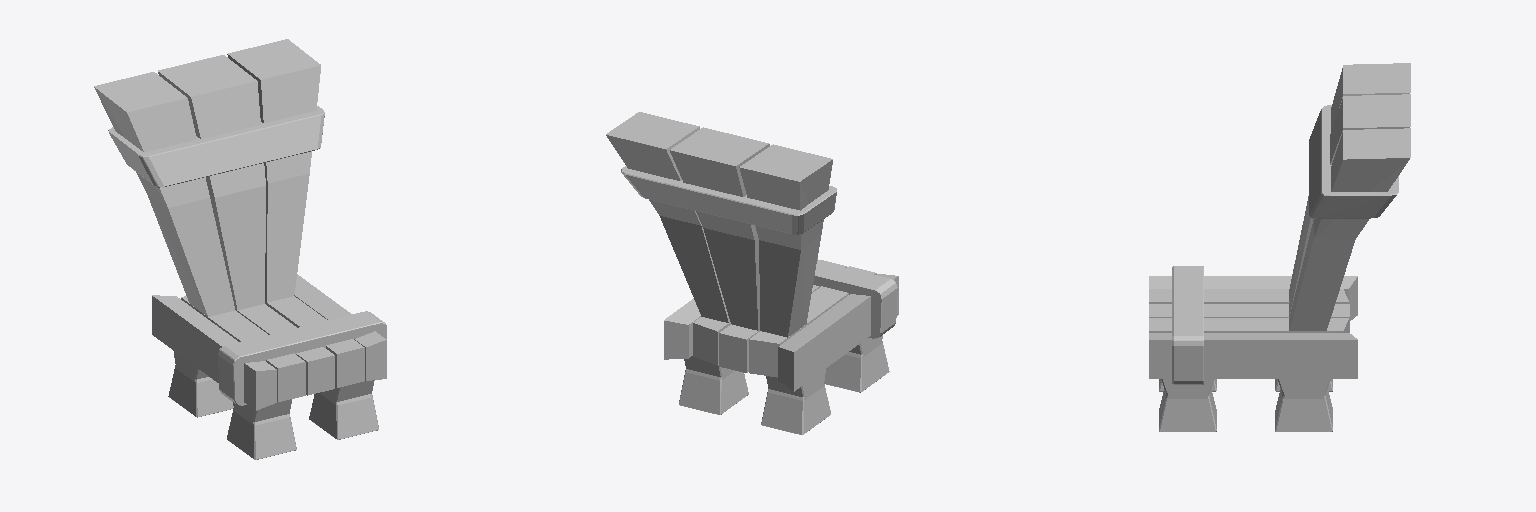
File: chair.obj
The picture shows the model from 3 angles: view 1: azimuth 30°, elevation 25°; view 2: azimuth 150°, elevation 25°; view 3: azimuth 270°, elevation 25°; orthographic projection.
Visible parts, largest first — view 1: chair; view 2: chair; view 3: chair.
Part boxes in pixels (left/top/right/bottom): chair: left=94, top=39, right=386, bottom=459; chair: left=606, top=112, right=898, bottom=434; chair: left=1149, top=63, right=1410, bottom=431.
Size of the model in its own units: 1.85 by 2.64 by 2.15.